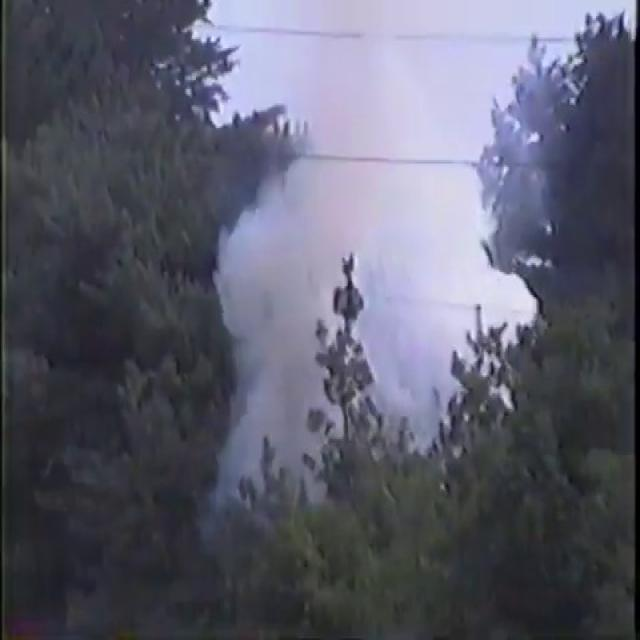Smoke: (203, 0, 613, 512)
